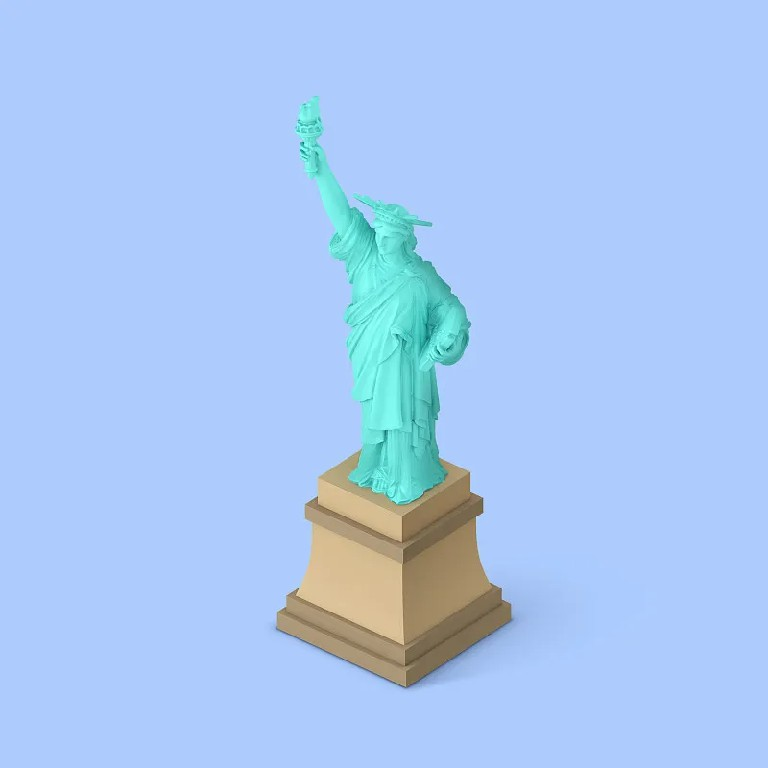SL: (275, 95, 514, 687)
